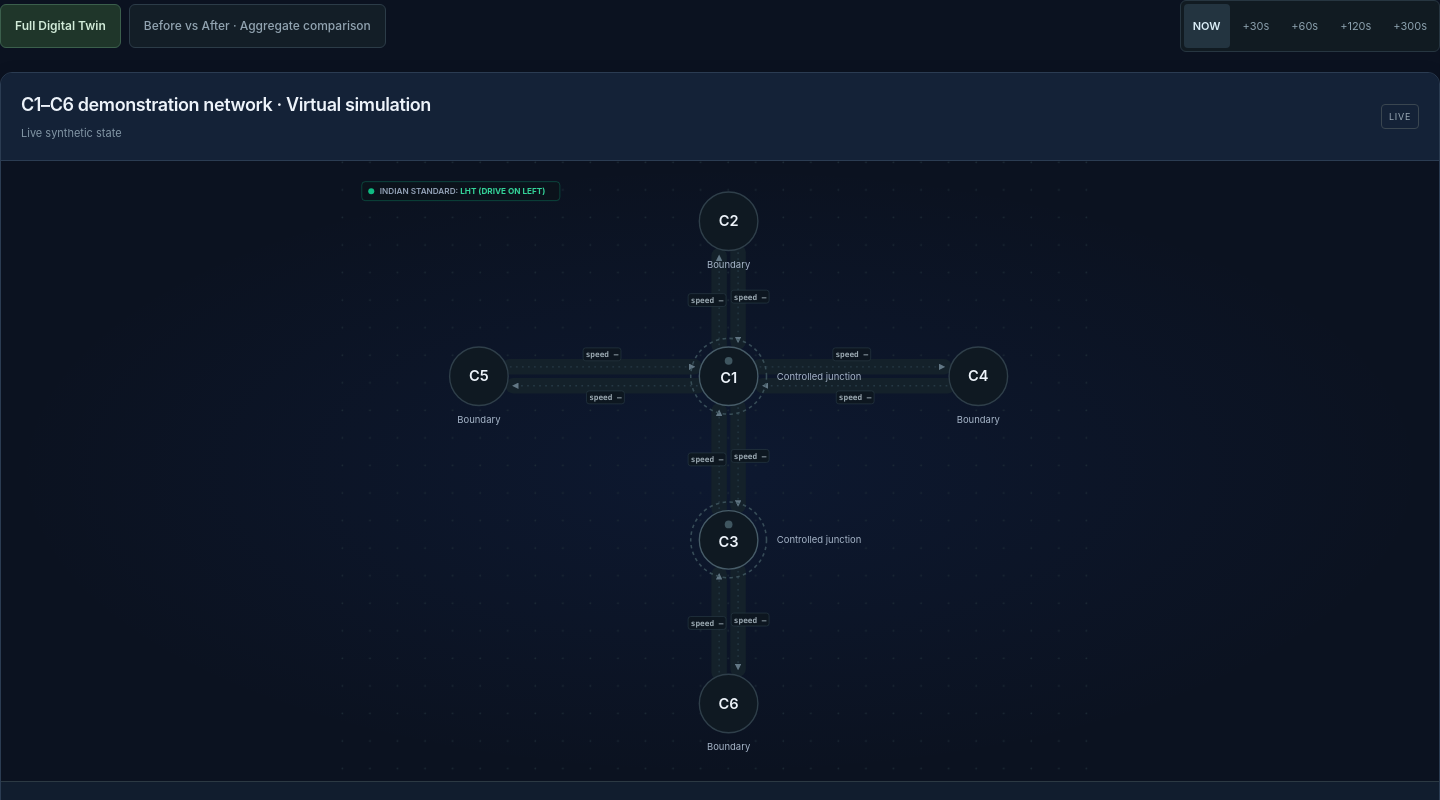
Test case: Epic 7: Before-vs-after Evidence (S21, S22) › S22: Synchronized comparison and impact › shows no-comparison empty state when run_id mismatches (stale rejection)
What coordinates should you click on to do the following:
click the button "Before vs After · Aggregate comparison"
I would click on:
 (257, 26)
Its box is [129, 4, 386, 48].
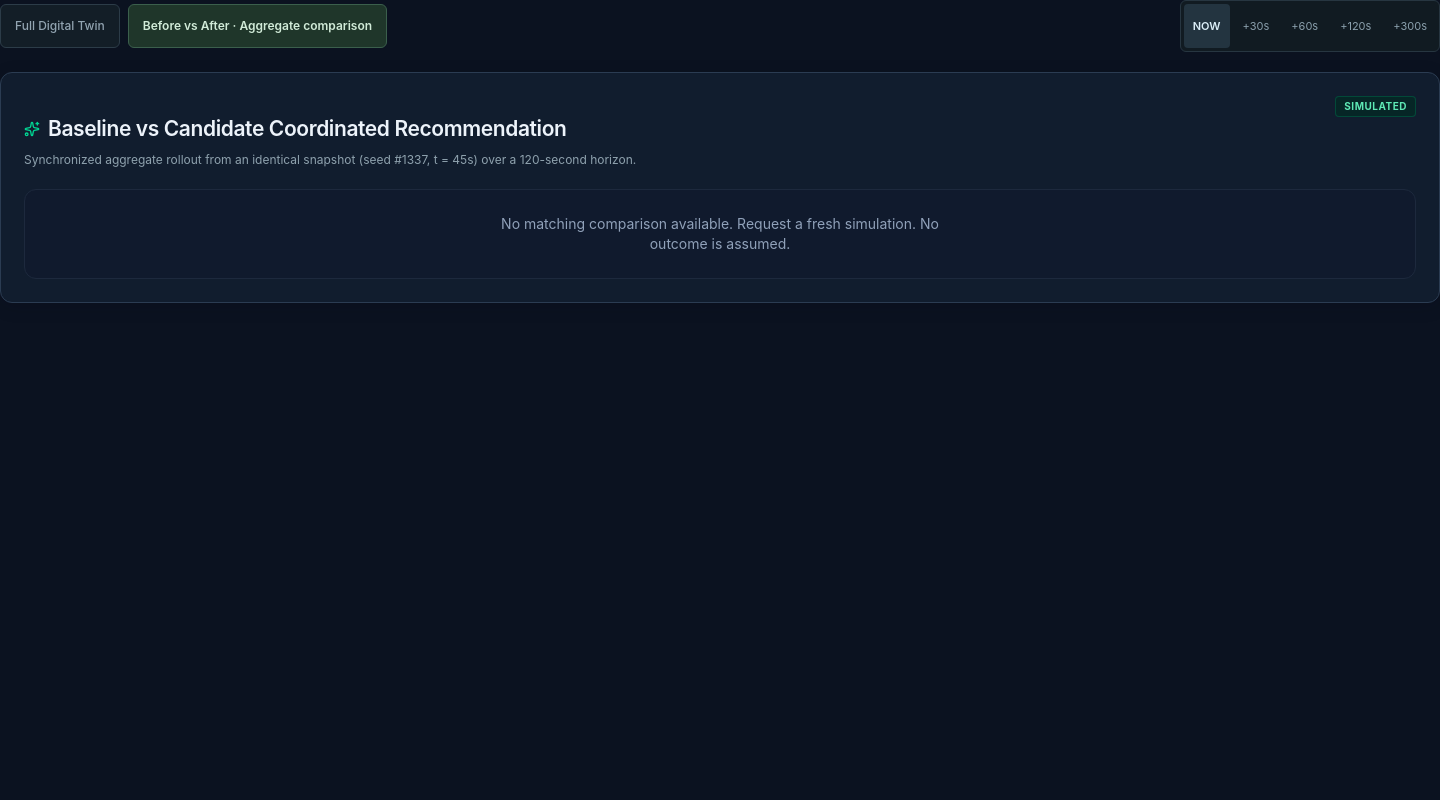
expect the message shows "No matching comparison available": met, box [501, 214, 939, 252]
